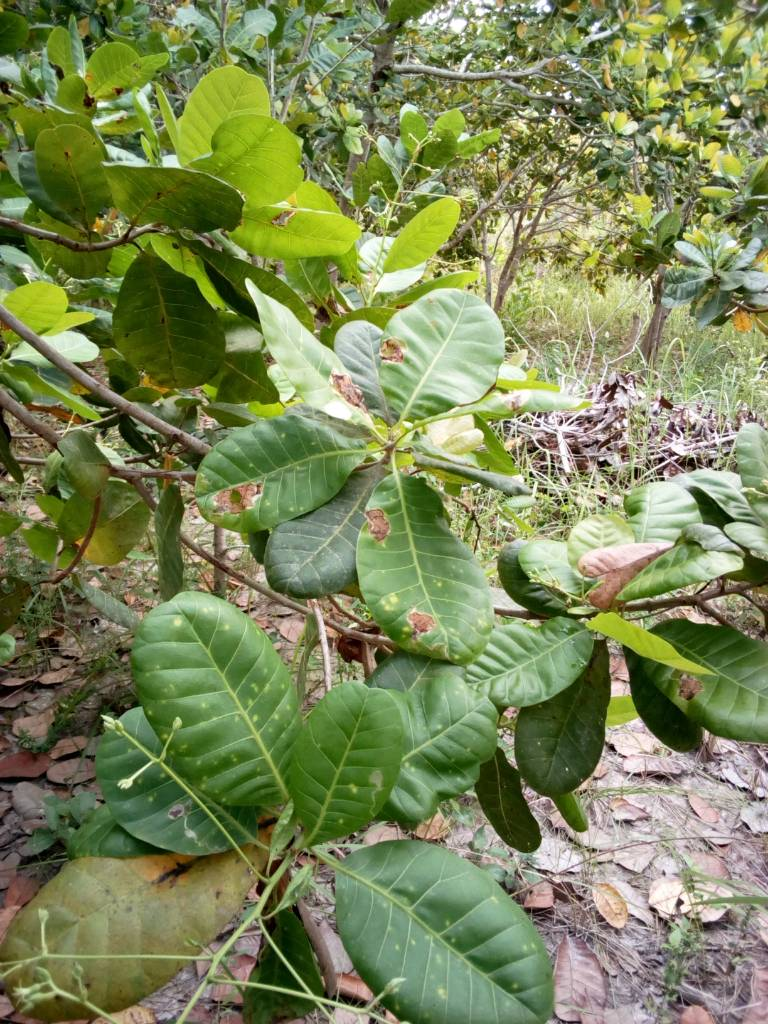Dysdercus wolkerii: (341, 464, 518, 671), (188, 405, 366, 550), (371, 275, 518, 444)
